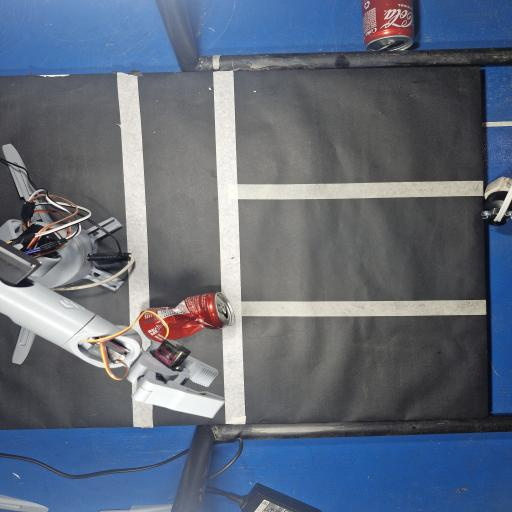lata_defectuoso: (139, 292, 234, 343)
